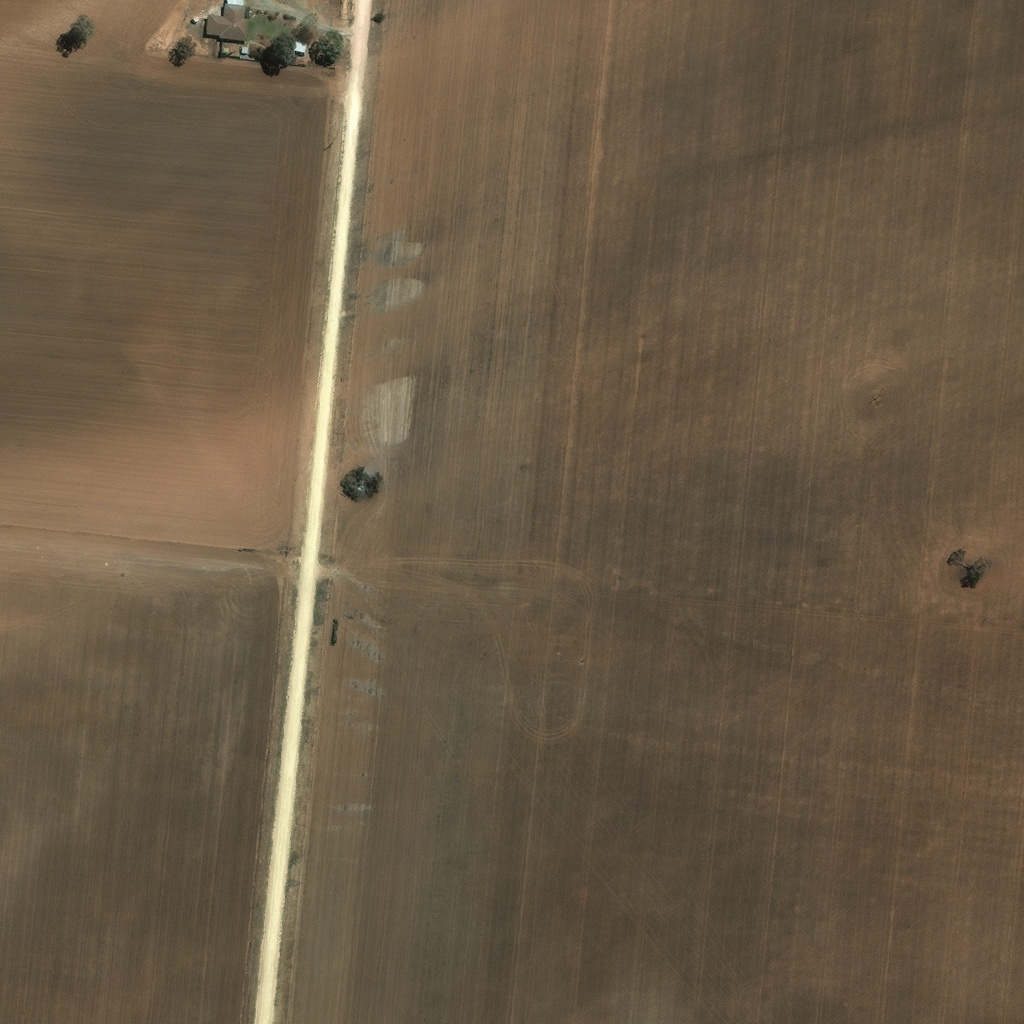0 no-damage: (205, 4, 254, 41), (293, 41, 308, 54), (226, 0, 245, 6), (242, 46, 248, 52), (222, 48, 229, 53), (194, 16, 199, 21)
